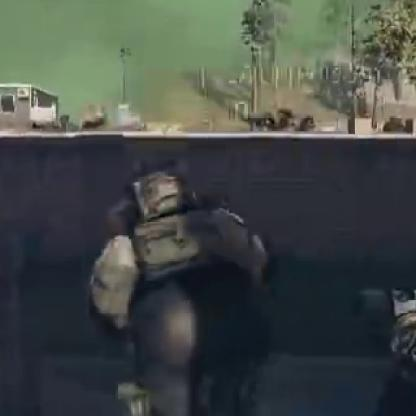enemy: (82, 160, 281, 416)
